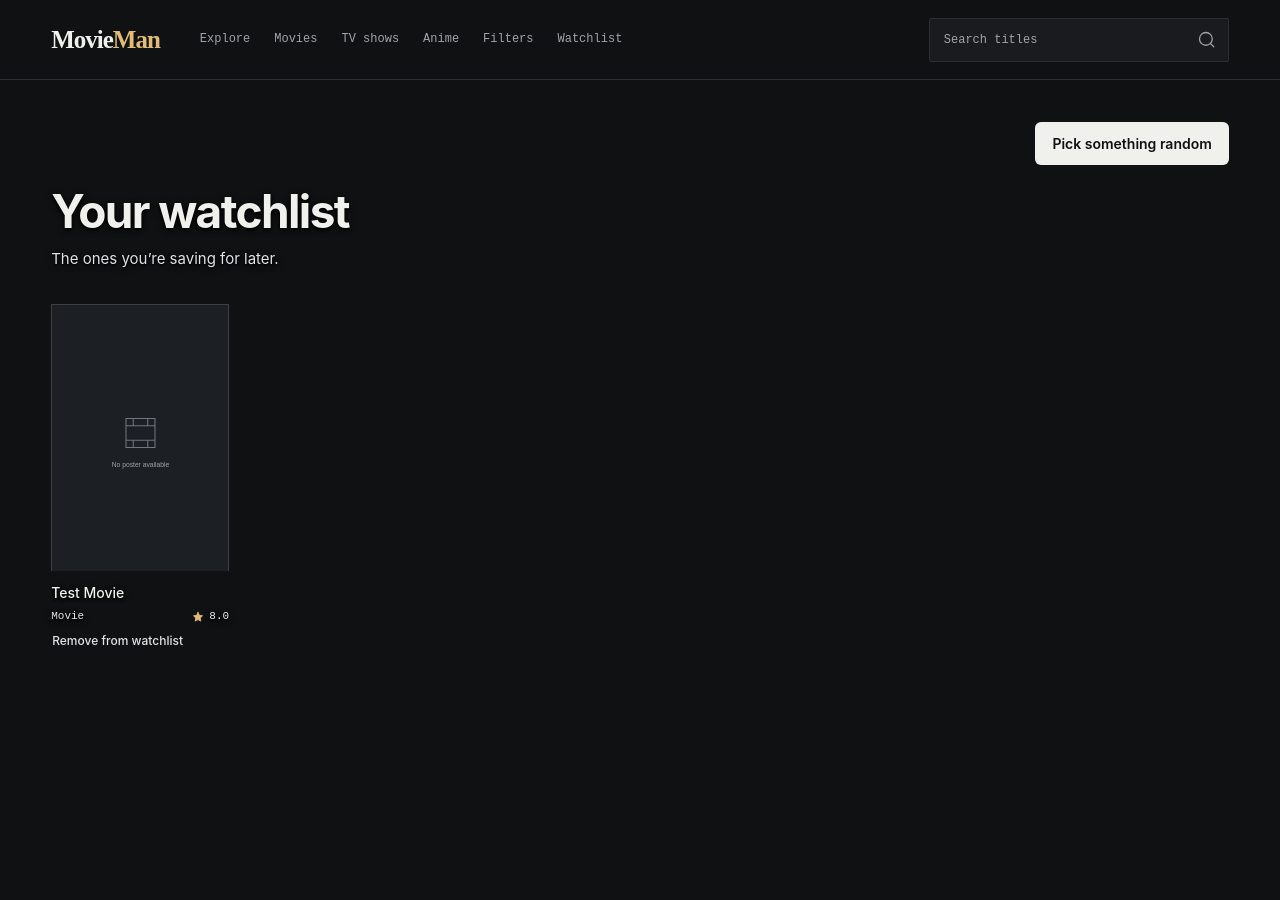
watchlist is independent of viewing history and persists removal
The width and height of the screenshot is (1280, 900).
Click the button with aria-label "Remove Test Movie from watchlist": (118, 641) [51,625,184,657]
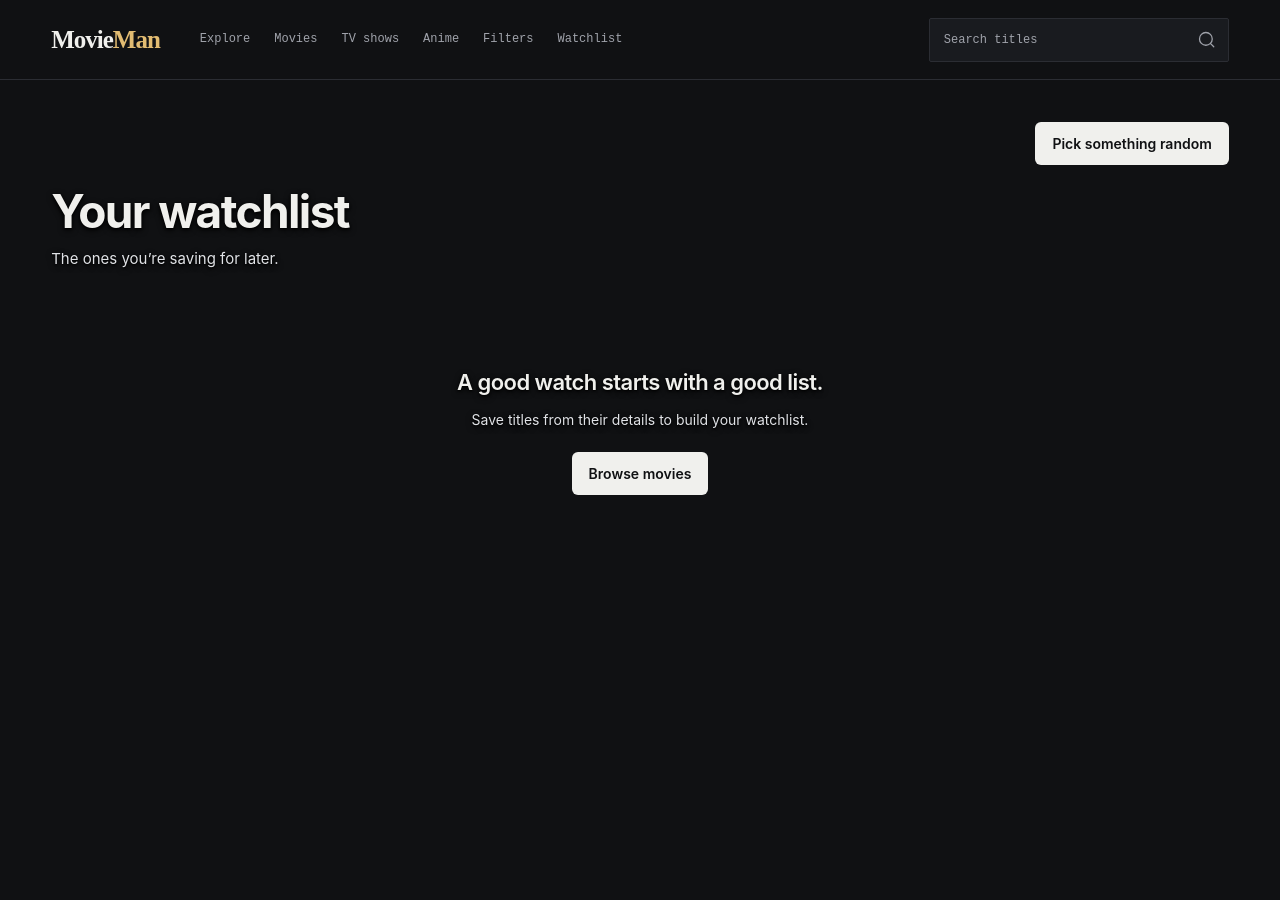
Expected: the text "Save titles from their details to build your watchlist." is shown, [472,411,808,428]
